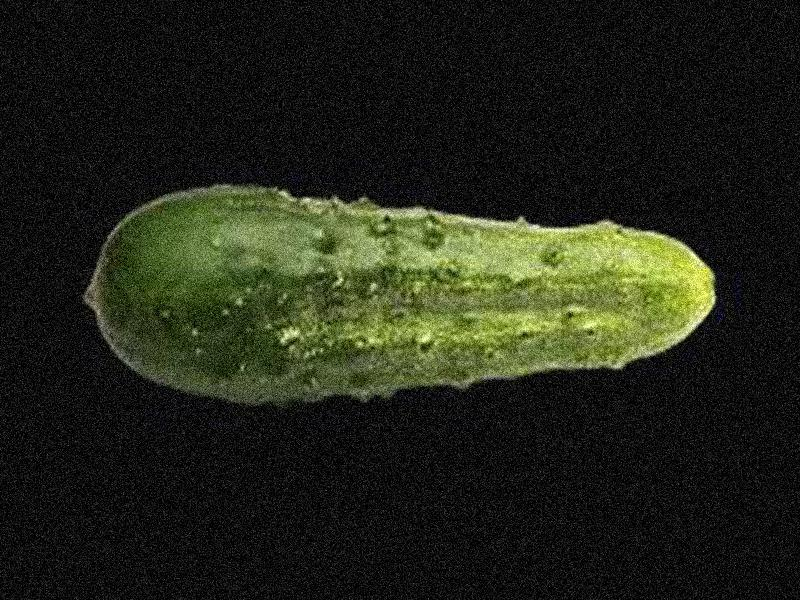Cucumber: (84, 184, 714, 409)
